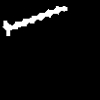half_double_crochet: (3, 6, 66, 35)
